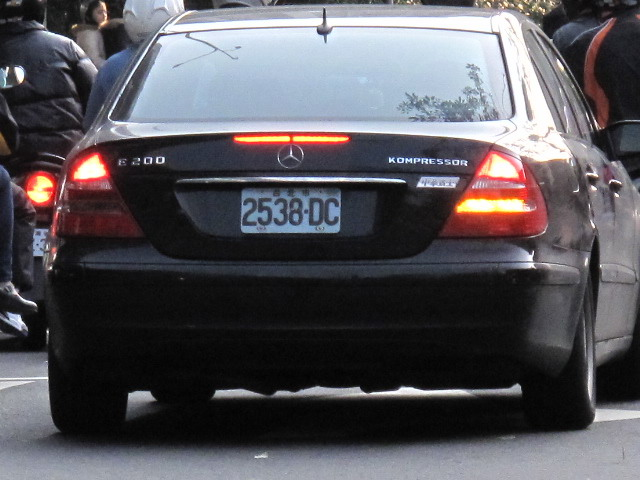plate: (239, 184, 345, 237)
